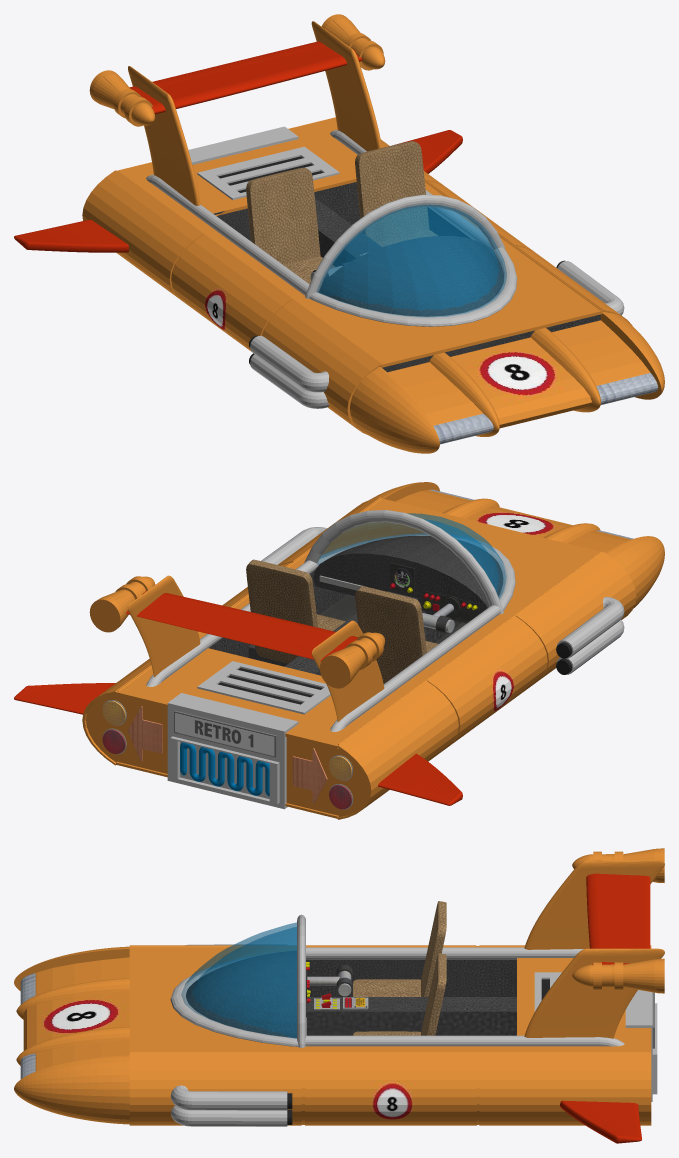
Rendered from RetroRacer.obj.
3 views of the same model, one above another, from view 1: azimuth 30°, elevation 25°; view 2: azimuth 150°, elevation 25°; view 3: azimuth 270°, elevation 25° (orthographic).
Visible parts, largest first — view 1: RetroRacer; view 2: RetroRacer; view 3: RetroRacer.
Part boxes in pixels (x1=…): RetroRacer: x1=14, y1=14, x2=664, y2=453; RetroRacer: x1=14, y1=482, x2=664, y2=819; RetroRacer: x1=14, y1=848, x2=664, y2=1143.
Bounding box in the file's own units: 1.33 × 0.4998 × 1.74.
Materials: 13 (7 with a texture image).
